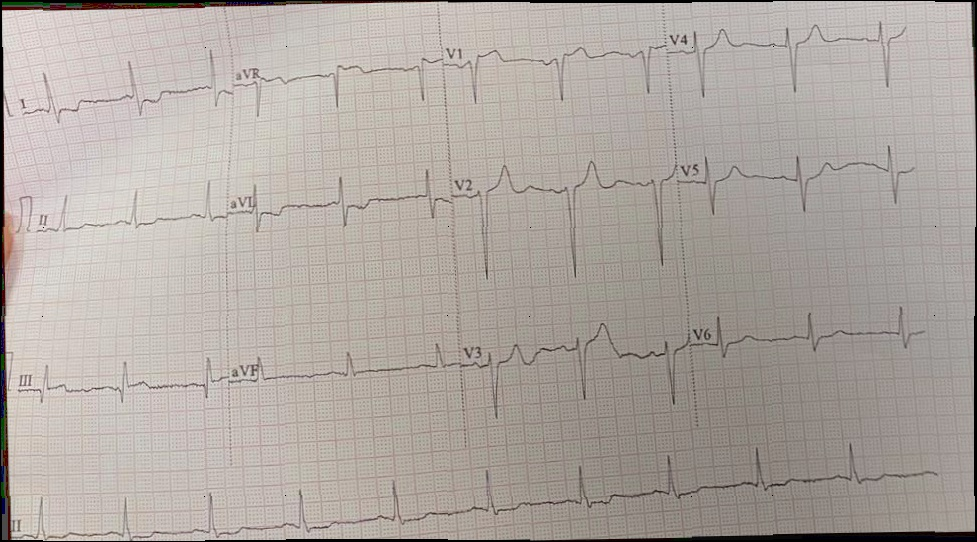Lead_I: (9, 45, 233, 129)
Lead_II: (28, 175, 224, 248)
Lead_III: (12, 347, 231, 422)
Lead_II_ext: (6, 433, 958, 542)
Lead_V1: (439, 25, 668, 112)
Lead_V2: (444, 145, 683, 291)
Lead_V3: (461, 301, 694, 430)
Lead_V4: (663, 0, 915, 115)
Lead_V5: (673, 134, 930, 223)
Lead_V6: (687, 294, 936, 374)
Lead_aVF: (224, 341, 465, 401)
Lead_aVL: (220, 169, 450, 239)
Lead_aVR: (227, 40, 443, 125)
